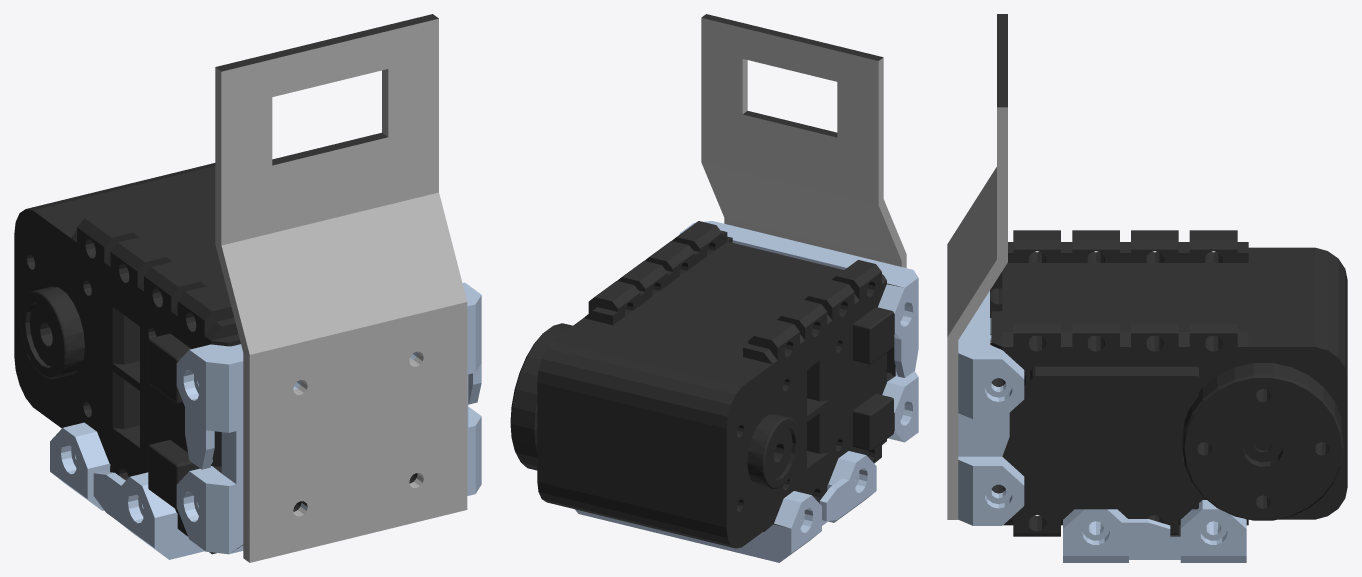
Rendered from gripper.dae.
3 renders of one model, left to right at view 1: azimuth 30°, elevation 25°; view 2: azimuth 150°, elevation 25°; view 3: azimuth 270°, elevation 25°, orthographic. The views are drawn at different scales.
Parts seen in each view (by area): view 1: end_effector; view 2: end_effector; view 3: end_effector.
Part boxes in pixels (<box>): end_effector: <box>14,14,481,562</box>; end_effector: <box>510,14,918,562</box>; end_effector: <box>947,14,1347,562</box>.
Size of the model in its own units: 0.04 by 0.0545 by 0.0675.
